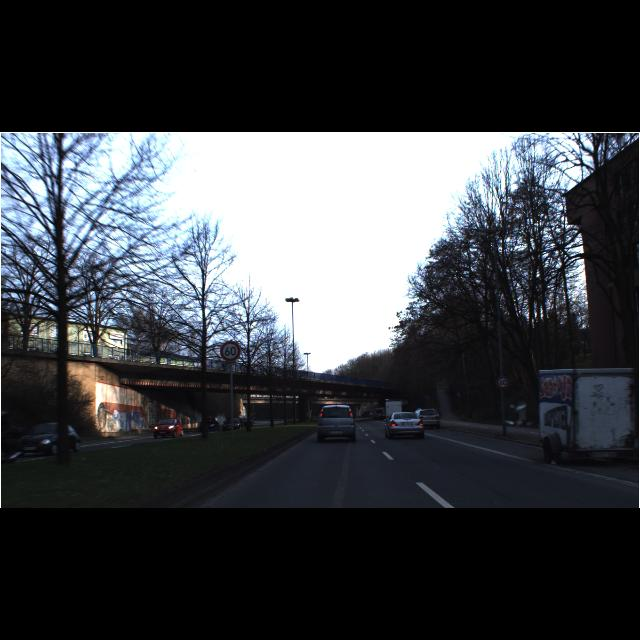prohibitory: (220, 341, 240, 363), (496, 375, 510, 389)
